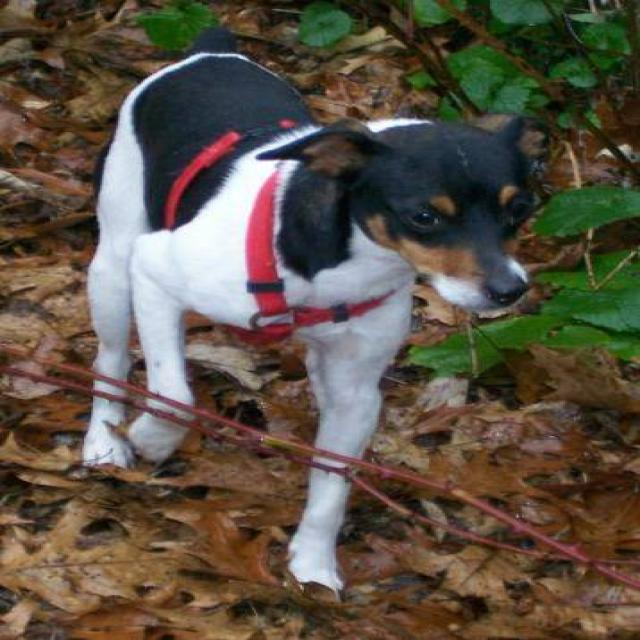dog: (78, 24, 550, 603)
